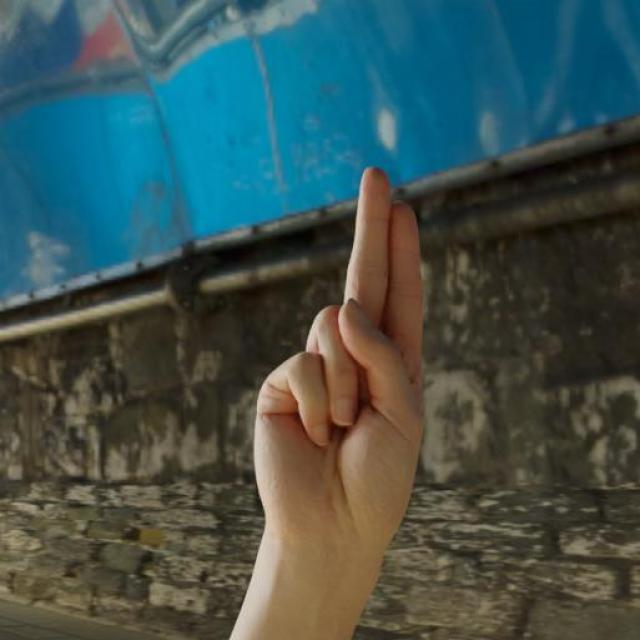U: (248, 163, 431, 551)
